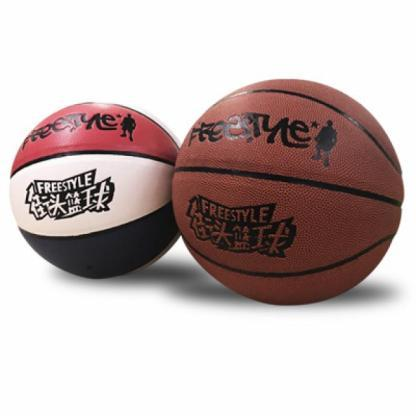basketball: (170, 77, 405, 307), (10, 102, 185, 281)
